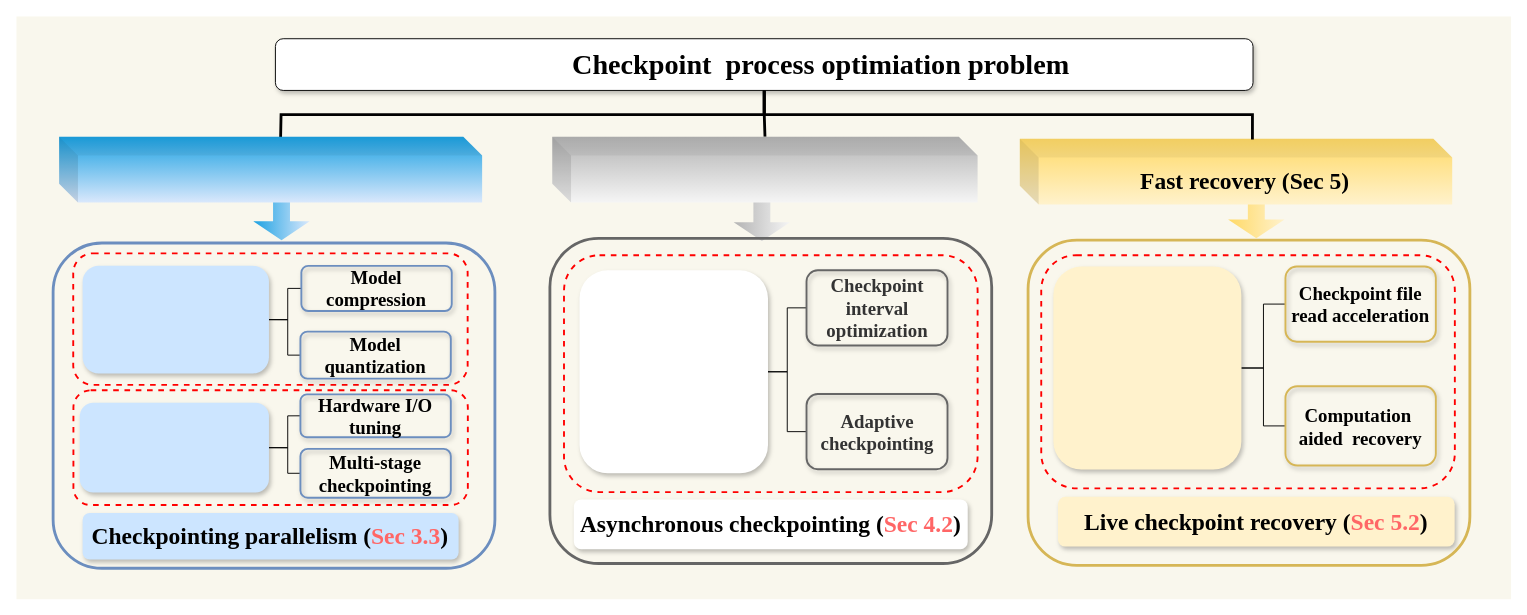
Some shapes in this 1527 by 615 pixel diagram are drawn without their labels. Each missing label, with the centre of its shape:
"Checkpoint data compression ( Sec 3.1 )" goes at [176,321].
"Checkpoint frequency optimization ( Sec 4.1 )" goes at [674,372].
"Checkpoint loading optimization ( Sec 5.1 )" goes at [1148,369].
"Checkpoint process acceleration (Sec 3)" goes at [270,169].
"Checkpoint process scheduling (Sec 4)" goes at [764,169].
"Checkpointing I/O optimization ( Sec 3.2 )" goes at [175,449].
